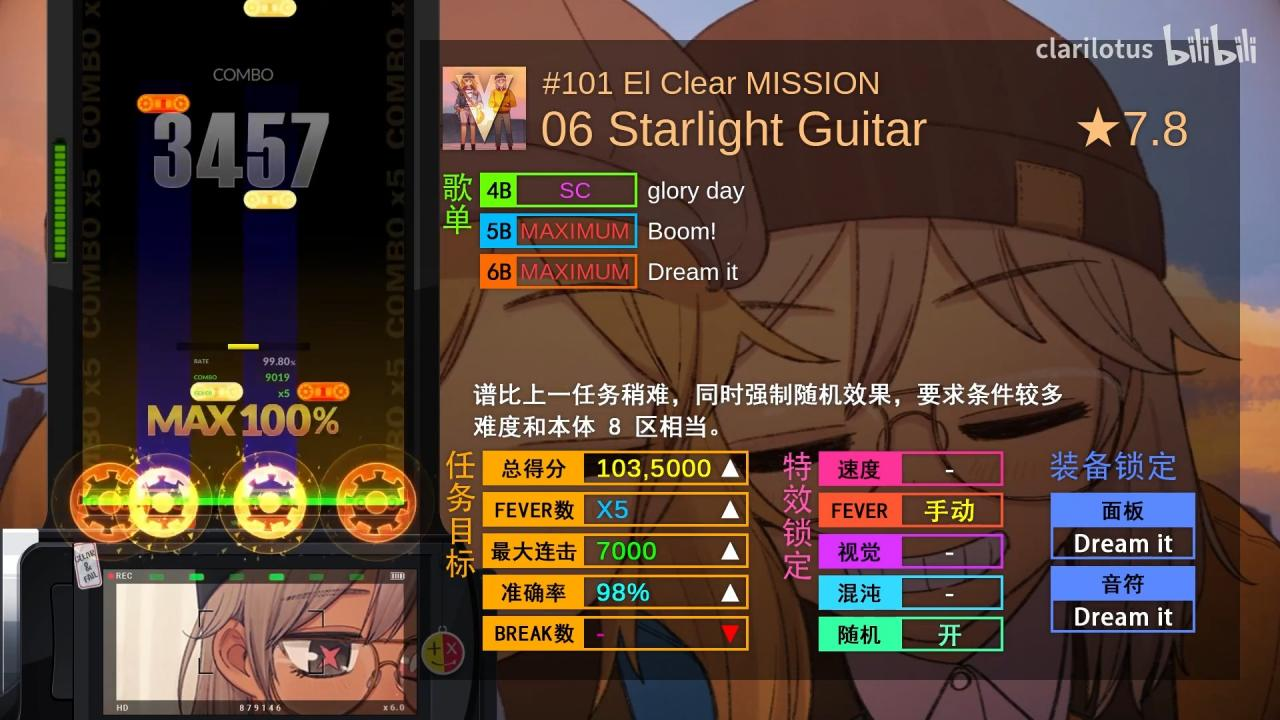note: (243, 190, 297, 210), (190, 382, 243, 402), (298, 383, 350, 402), (138, 94, 189, 113), (243, 0, 297, 16)
